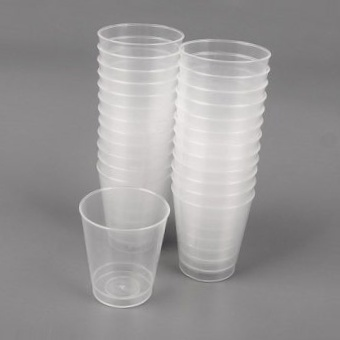plastic: (86, 19, 276, 166), (69, 183, 174, 310)
